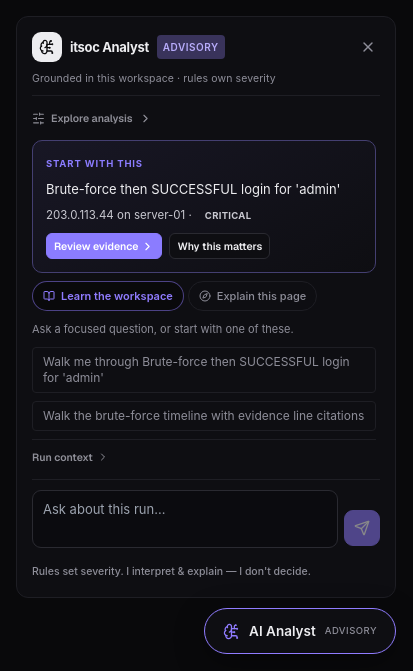
Test: AI Copilot Right-Rail (Phase 3) › greets the user with quick-start chips and a tour + explain-this-page tie-in when a run is loaded
Expected: the element with test id "copilot-greeting" shows "Start with this", [46, 158, 143, 169]
Expected: the button with test id "copilot-start-tour" is shown, [32, 281, 184, 311]
# "Explain this page" asks the copilot about the current screen.
Click the button with test id "copilot-explain-page". click: (253, 296)
box: [188, 281, 317, 311]
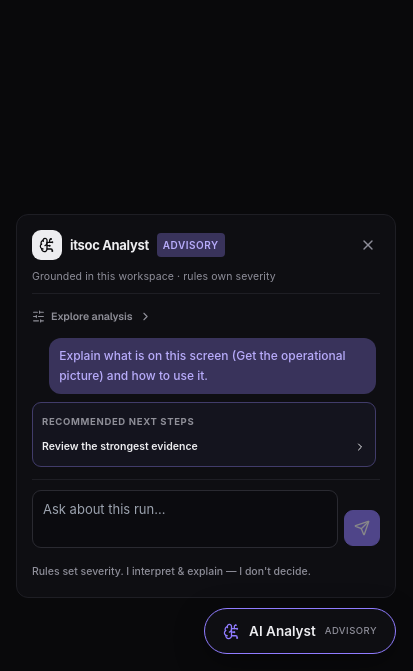
Expected: the element with test id "copilot-next-actions" shows "Review the strongest evidence", [42, 437, 366, 457]
